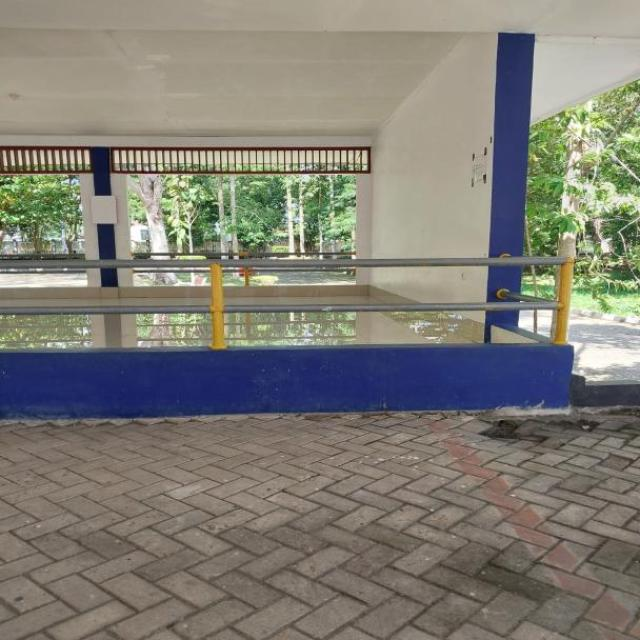barrier ahead at: (0, 260, 579, 414)
